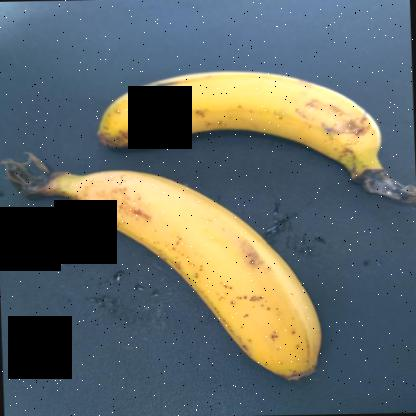ripe: (58, 162, 334, 382), (78, 58, 390, 171)
